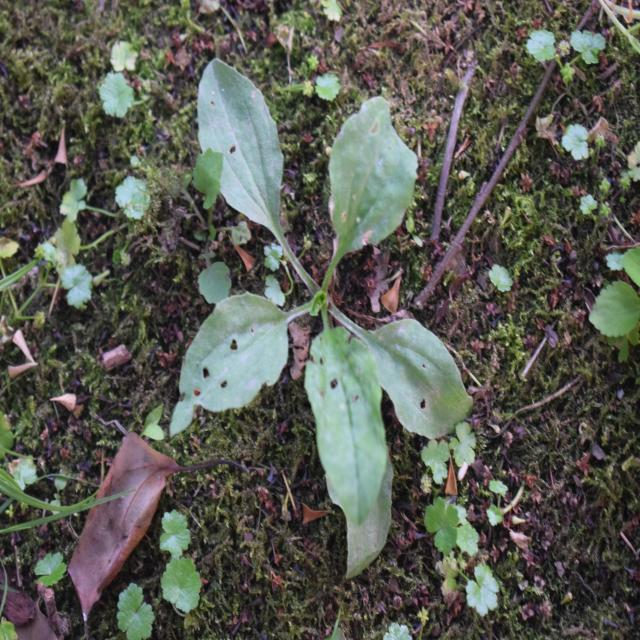plantain: (186, 54, 451, 506)
